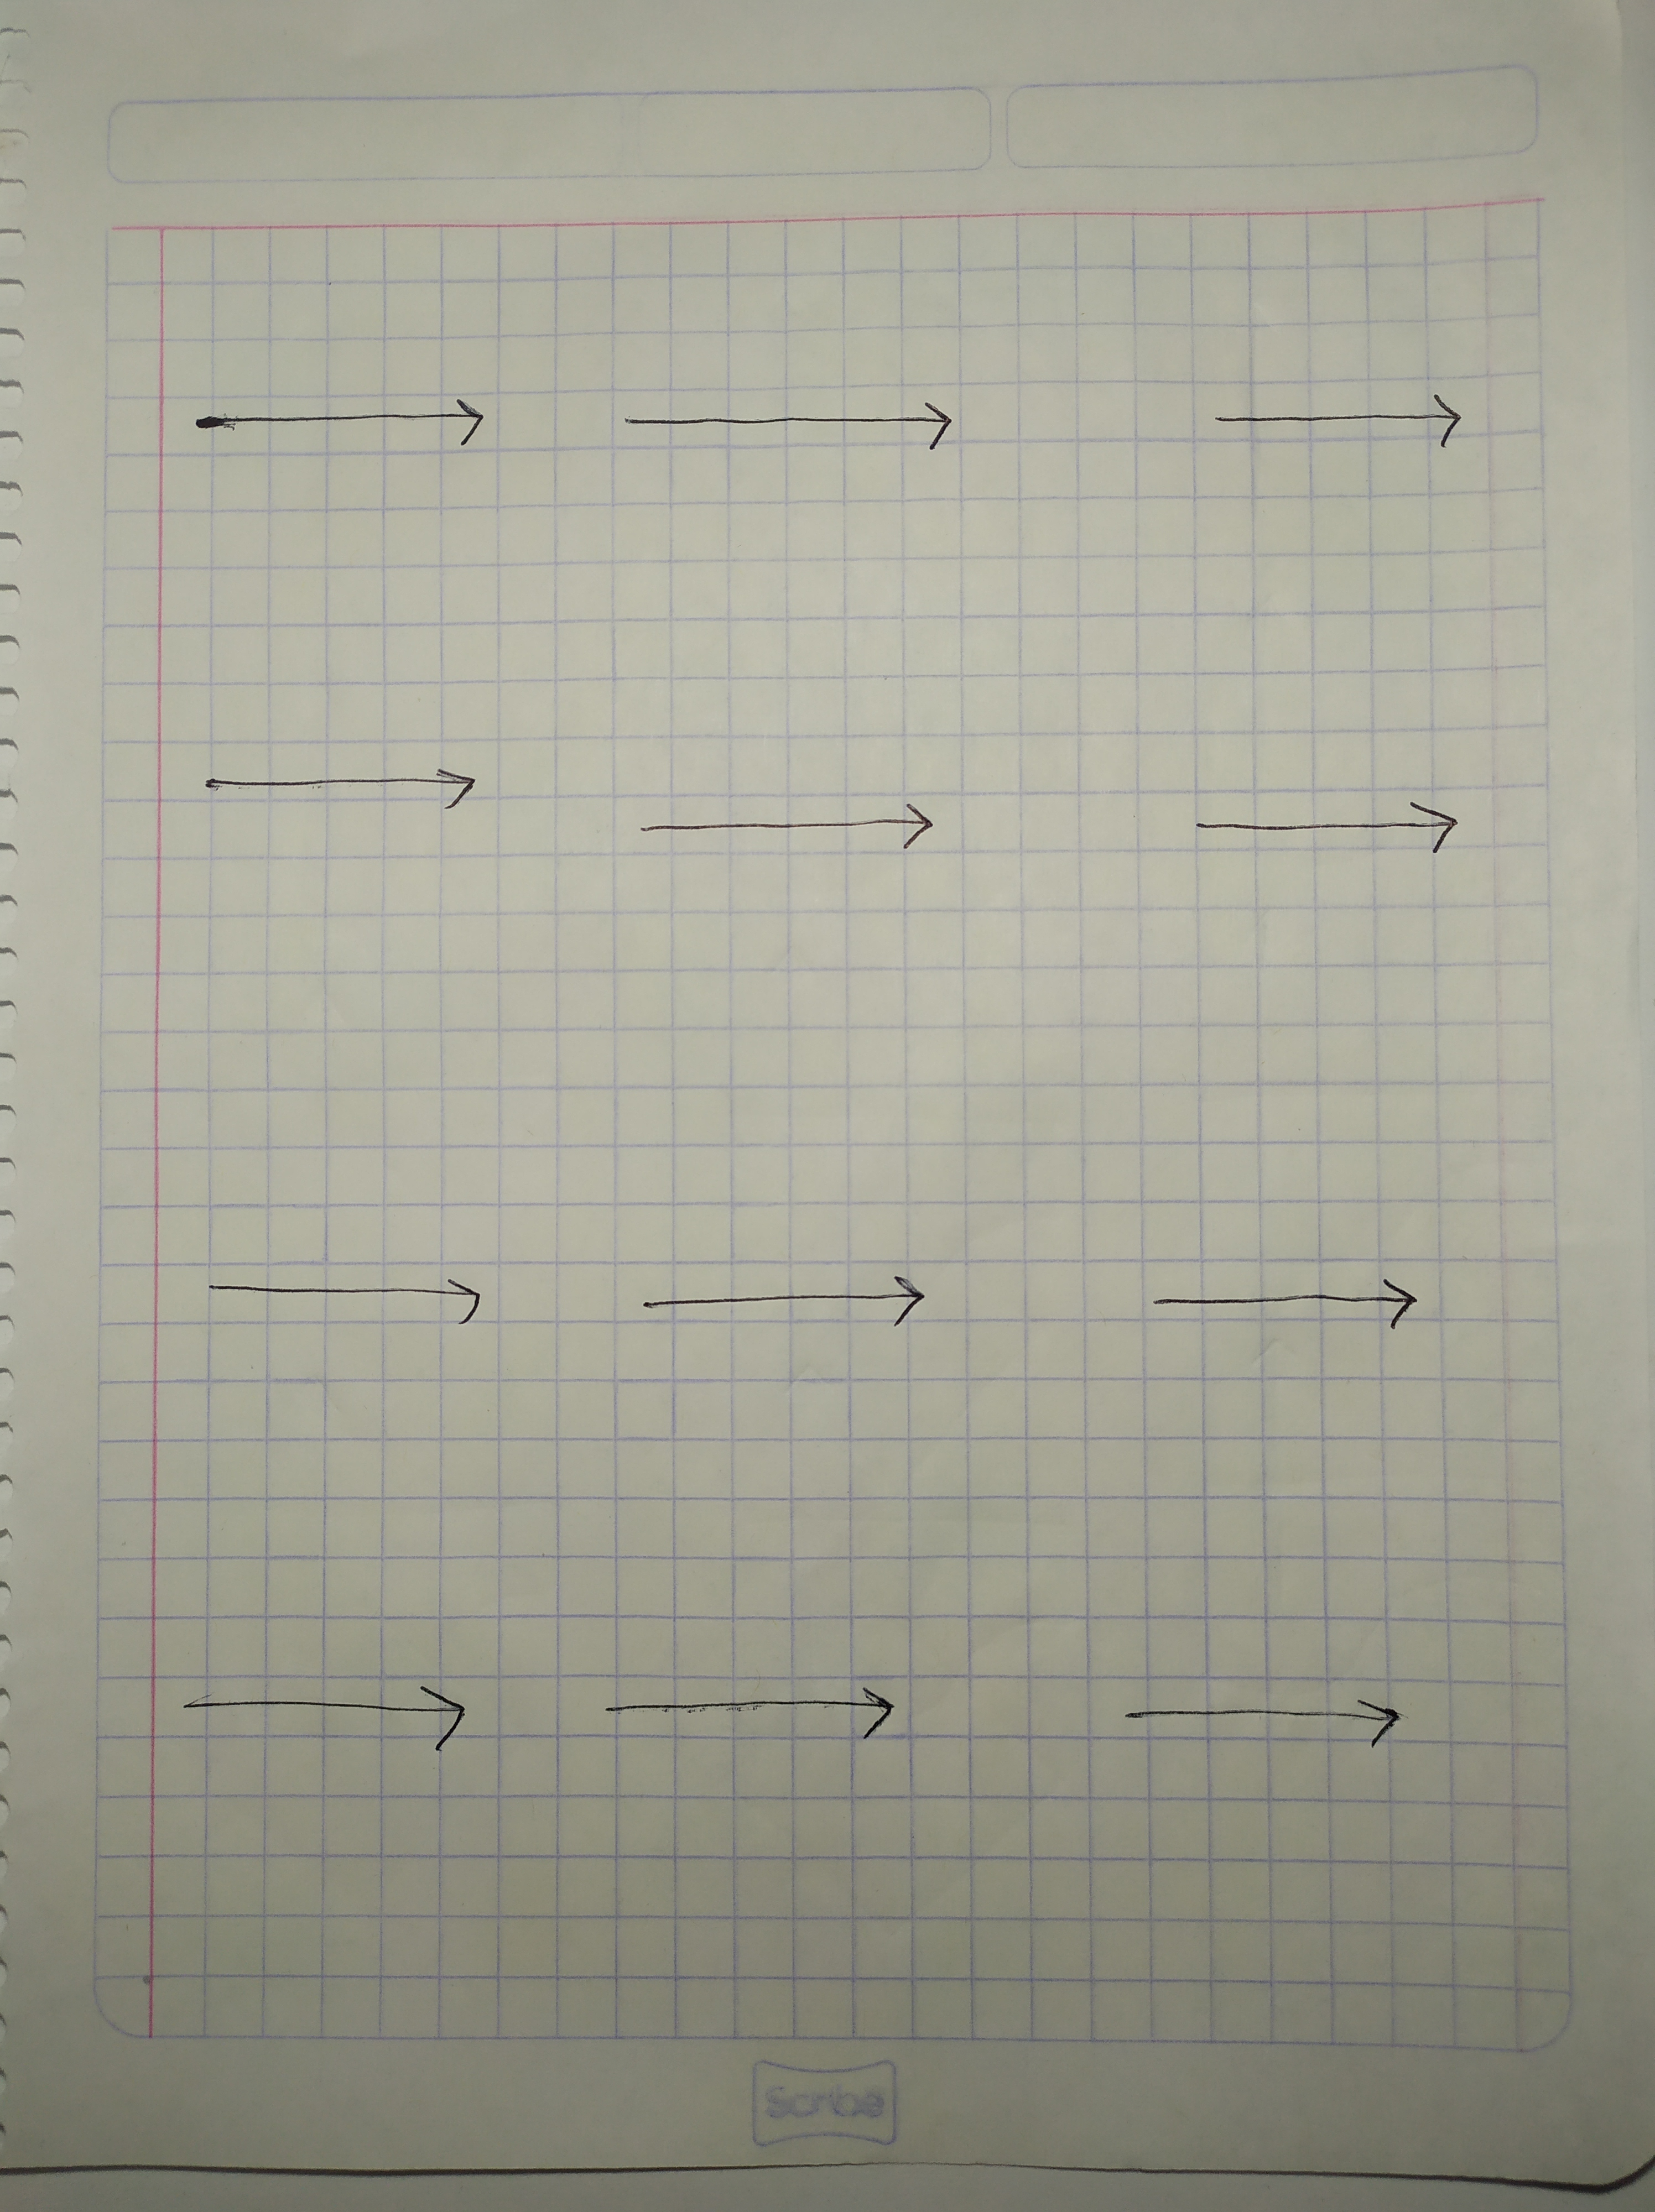arrow_line_right: (148, 1647, 541, 1786), (596, 1251, 968, 1369), (607, 752, 982, 869), (575, 1646, 928, 1769), (596, 381, 1008, 483), (1093, 1673, 1457, 1776), (1163, 367, 1497, 474), (162, 384, 534, 480), (1163, 778, 1481, 879), (179, 1241, 520, 1334), (1114, 1251, 1453, 1341), (183, 744, 499, 829)
